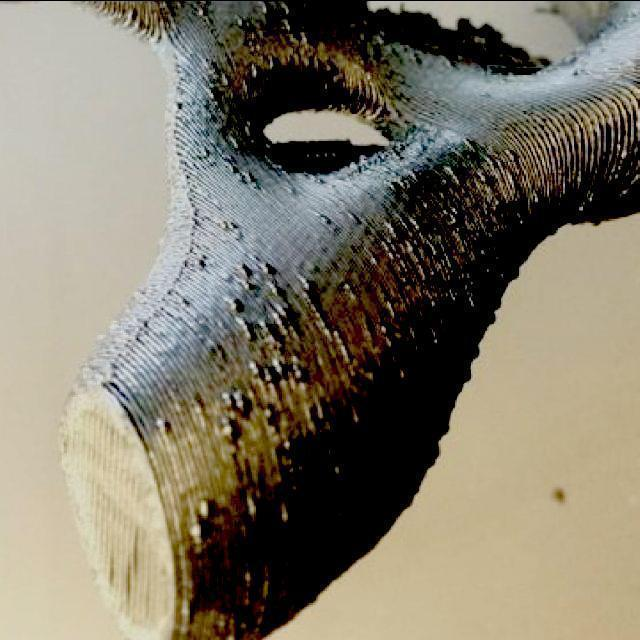zits: (220, 287, 240, 311), (212, 420, 235, 438), (246, 62, 264, 82), (194, 496, 213, 514), (216, 386, 233, 406), (259, 398, 273, 418), (293, 362, 310, 378), (188, 522, 203, 538), (277, 438, 294, 452), (258, 370, 277, 382), (152, 416, 170, 428), (266, 54, 278, 72), (260, 260, 274, 273)
